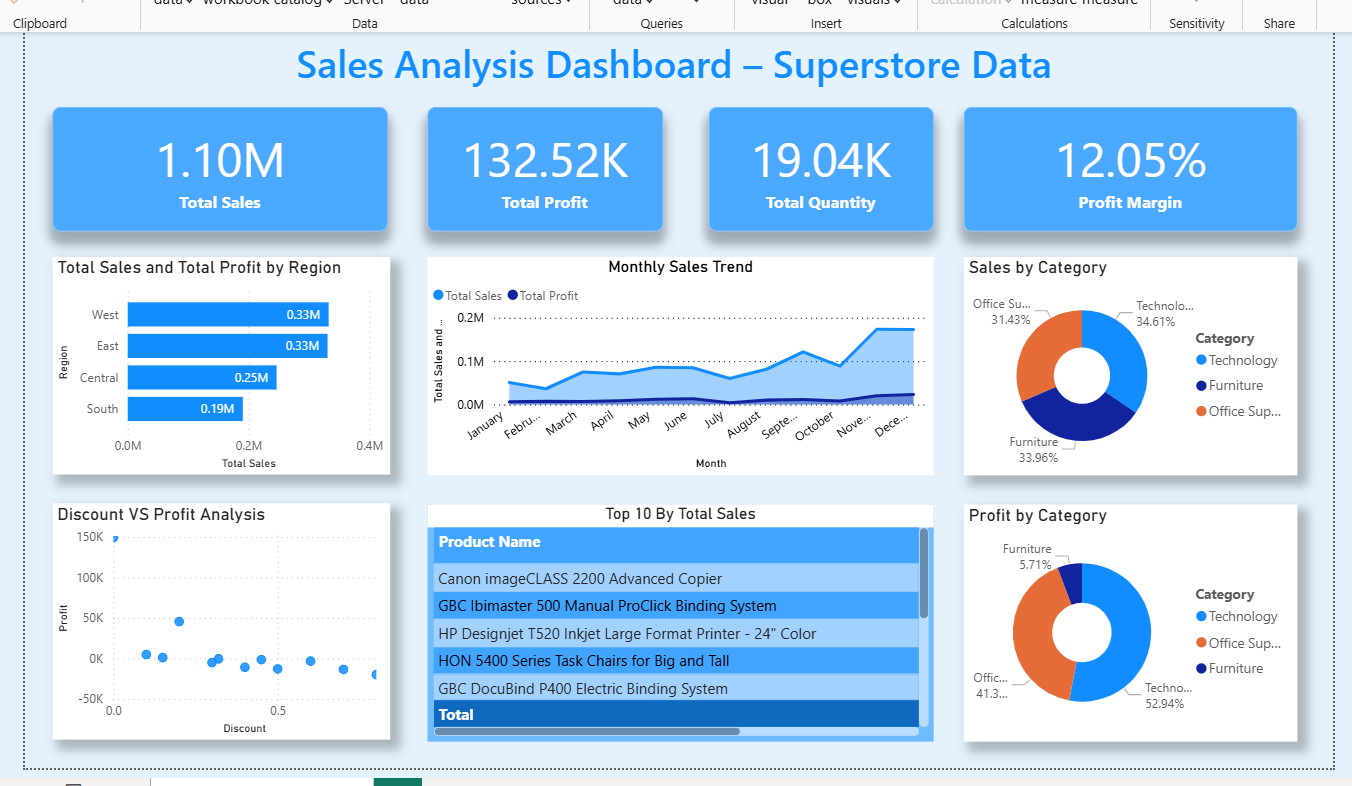

This screenshot's page, from the dashboard's own definition file:
{"tool":"powerbi","page":{"name":"Sales Analysis Dashboard","canvas":[1280,720],"ordinal":0},"visuals":[{"type":"card","fields":{"Values":["Sample - Superstore.Total Sales"]},"box":[26.7,73.3,328.3,121.7],"z":0},{"type":"card","fields":{"Values":["Sample - Superstore.Total Profit"]},"box":[393.3,73.3,230,121.7],"z":1000},{"type":"card","fields":{"Values":["Sample - Superstore.Total Quantity"]},"box":[668.3,73.3,220,121.7],"z":2000},{"type":"card","fields":{"Values":["Sample - Superstore.Profit Margin"]},"box":[918.3,73.3,326.7,121.7],"z":3000},{"type":"textbox","box":[201.7,0,866.7,60],"z":4000},{"type":"lineChart","title":"Monthly Sales Trend","fields":{"Category":["Sample - Superstore.Order Date.Variation.Date Hierarchy.Month"],"Y":["Sample - Superstore.Total Sales","Sample - Superstore.Total Profit"]},"box":[393.3,220,495,213.3],"z":5000},{"type":"clusteredBarChart","fields":{"Category":["Sample - Superstore.Region"],"Y":["Sample - Superstore.Total Sales"]},"box":[27.1,220,330,212.9],"z":6000},{"type":"donutChart","title":"Profit by Category","fields":{"Category":["Sample - Superstore.Category","Sample - Superstore.Sub-Category"],"Y":["Sample - Superstore.Total Profit"]},"box":[918.3,461.7,326.7,231.7],"z":7000},{"type":"donutChart","title":"Sales by Category","fields":{"Category":["Sample - Superstore.Category","Sample - Superstore.Sub-Category"],"Y":["Sum(Sample - Superstore.Sales)"]},"box":[918.3,220,326.7,213.3],"z":8000},{"type":"tableEx","title":"Top 10 By Total Sales","fields":{"Values":["Sample - Superstore.Product Name","Sample - Superstore.Total Sales","Sample - Superstore.Total Profit","Sample - Superstore.Profit Margin"]},"box":[393.3,461.7,495,231.7],"z":9000},{"type":"scatterChart","title":"Discount VS Profit Analysis","fields":{"X":["Sample - Superstore.Discount"],"Y":["Sum(Sample - Superstore.Profit)"]},"box":[27.1,461.4,330,231.4],"z":9001}]}

Visuals, with their boxes on the page's 1280x720 design canvas (x1, y1, x2, y2). These are canvas units, not pixel positions in the 1352x786 screenshot, which may show the page scaled, cropped or inside an application window:
card - Sample - Superstore.Total Sales: x1=27, y1=73, x2=355, y2=195
card - Sample - Superstore.Total Profit: x1=393, y1=73, x2=623, y2=195
card - Sample - Superstore.Total Quantity: x1=668, y1=73, x2=888, y2=195
card - Sample - Superstore.Profit Margin: x1=918, y1=73, x2=1245, y2=195
textbox: x1=202, y1=0, x2=1068, y2=60
"Monthly Sales Trend" lineChart: x1=393, y1=220, x2=888, y2=433
clusteredBarChart - Sample - Superstore.Region x Sample - Superstore.Total Sales: x1=27, y1=220, x2=357, y2=433
"Profit by Category" donutChart: x1=918, y1=462, x2=1245, y2=693
"Sales by Category" donutChart: x1=918, y1=220, x2=1245, y2=433
"Top 10 By Total Sales" tableEx: x1=393, y1=462, x2=888, y2=693
"Discount VS Profit Analysis" scatterChart: x1=27, y1=461, x2=357, y2=693
